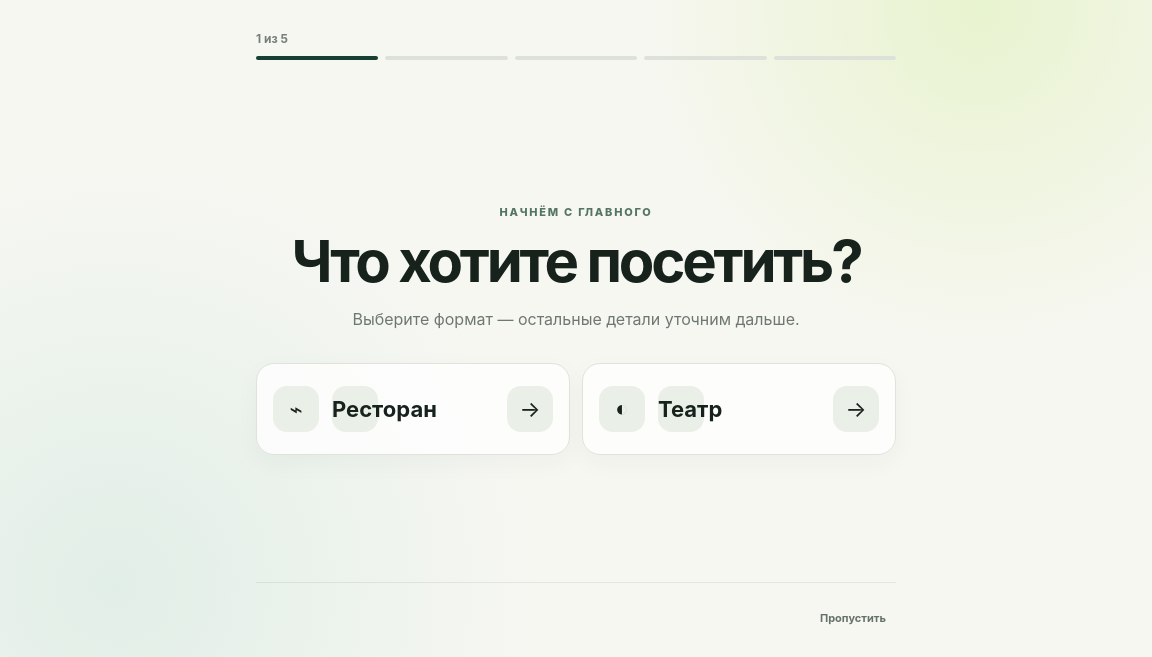
SearchWizard › restores a budget when navigating back so it can be edited
Click the button "⌁ Ресторан →" at (296, 409), box [256, 363, 570, 455]
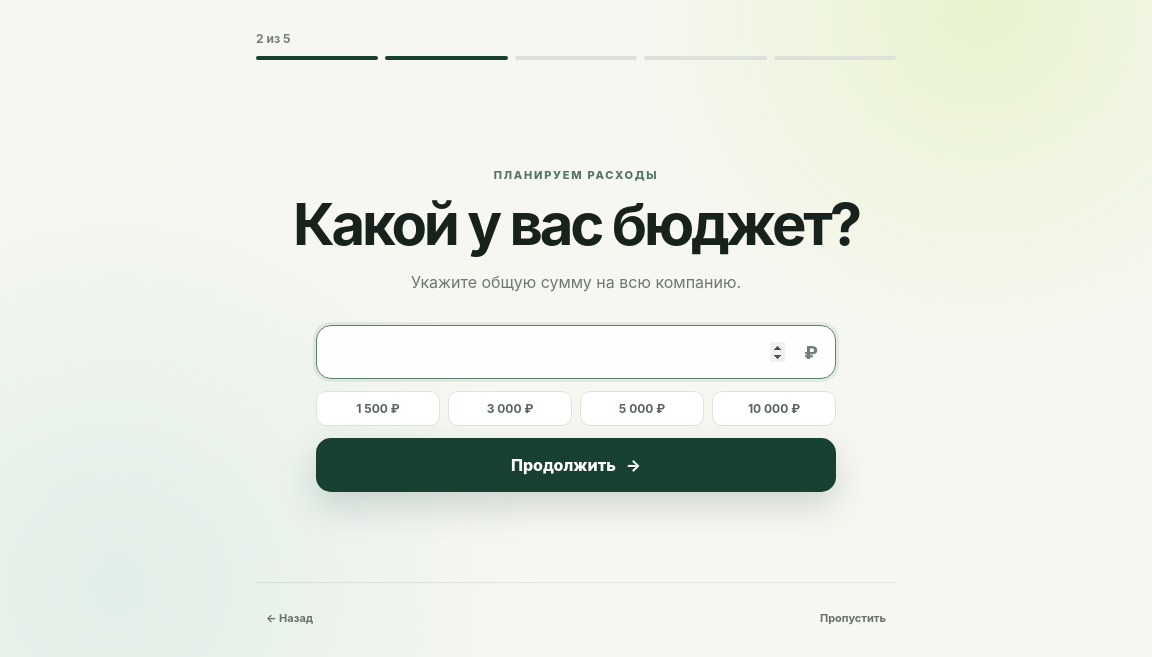
Click the button "3 000 ₽" at (510, 409), box [448, 392, 572, 426]
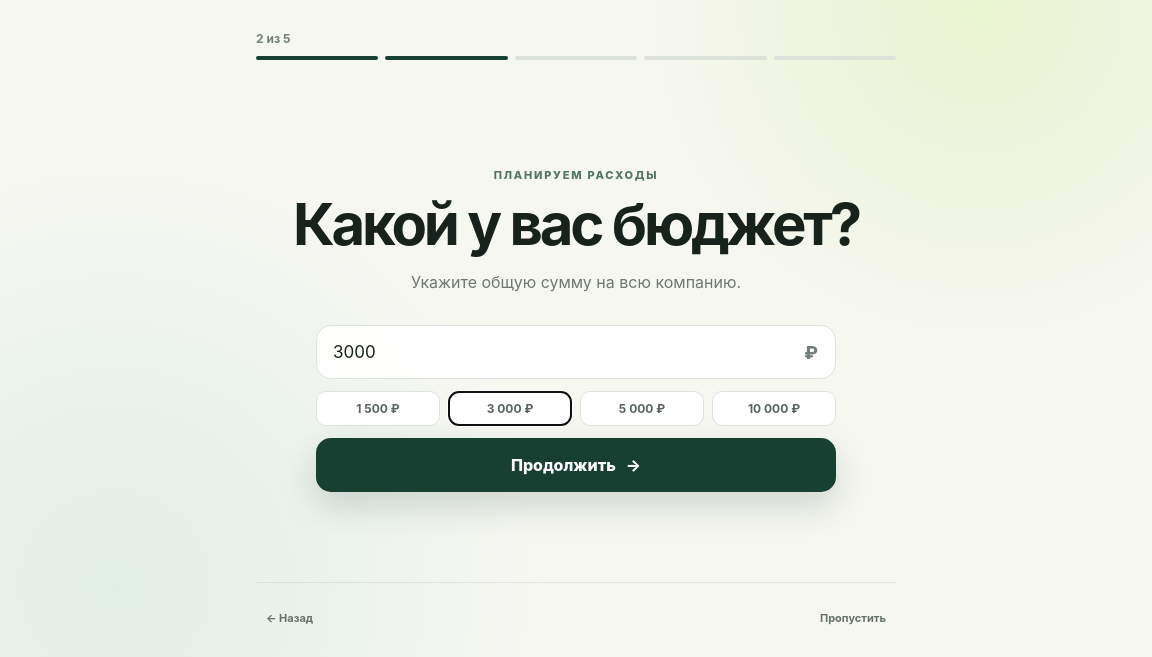
Click the button "Продолжить →" at (576, 466), box [316, 438, 836, 492]
(page scrolled)
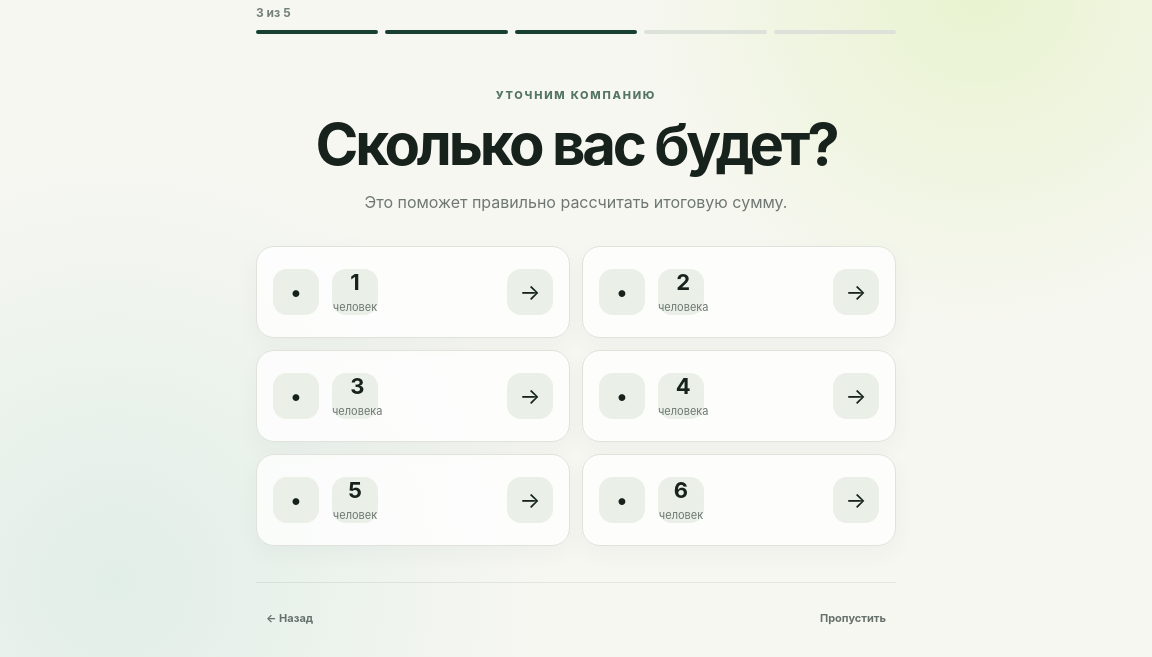
Result: the heading "Сколько вас будет?" is shown at [316, 109, 837, 179]
Click the button "← Назад" at (290, 618), box [256, 601, 323, 635]
(page scrolled)
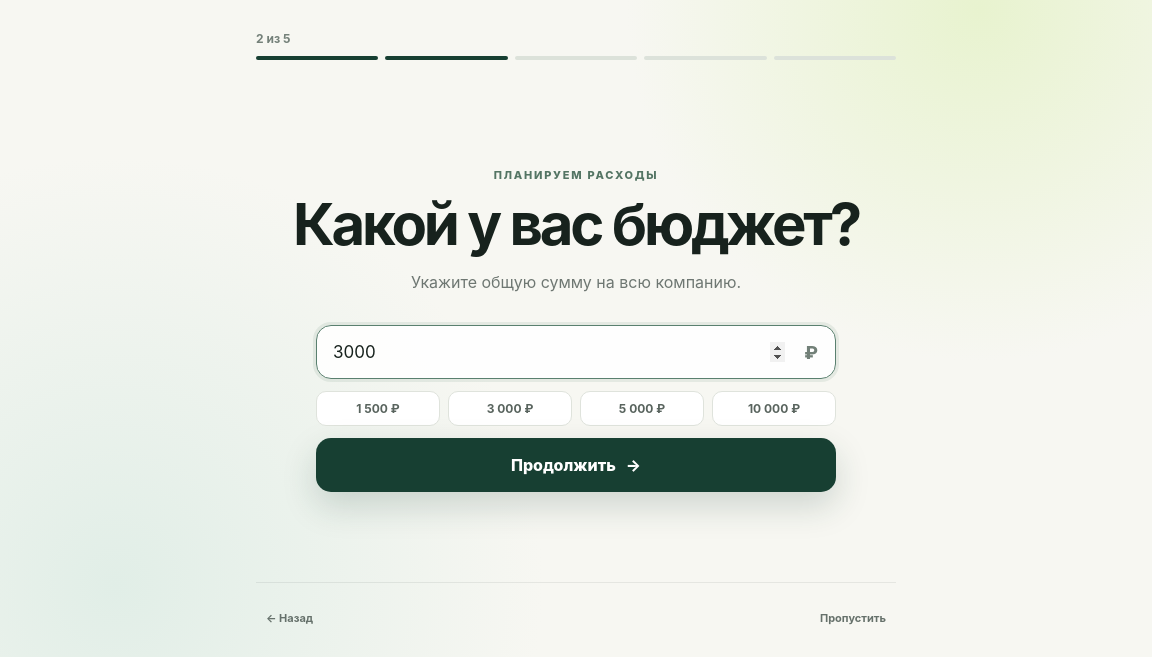
Result: the number field named "Общий бюджет" holds "3000" at [316, 326, 836, 380]
